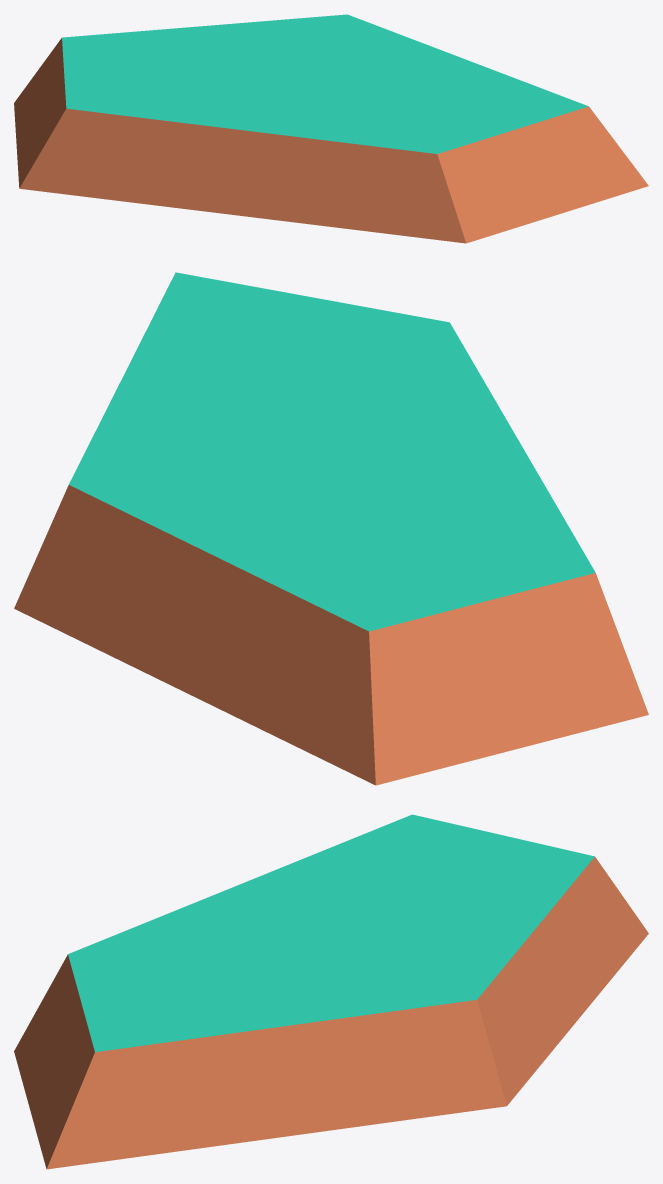
File: rock_smallFlatB.glb
3 renders of one model, top to bottom at view 1: azimuth 30°, elevation 25°; view 2: azimuth 150°, elevation 25°; view 3: azimuth 270°, elevation 25°, orthographic. The views are drawn at different scales.
Parts seen in each view (by area): view 1: rock_smallFlatB; view 2: rock_smallFlatB; view 3: rock_smallFlatB.
Part boxes in pixels (x1,y1,x2,y2): rock_smallFlatB: [14, 14, 648, 243]; rock_smallFlatB: [14, 272, 648, 785]; rock_smallFlatB: [14, 814, 648, 1169].
Bounding box in the file's own units: 0.4295 × 0.0649 × 0.4024.
